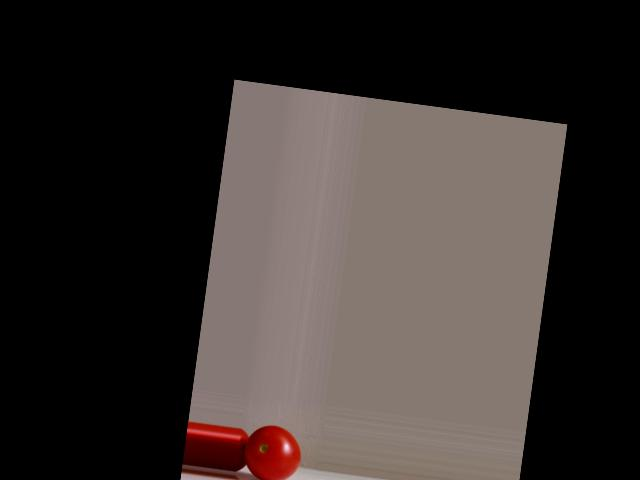tomato: (241, 422, 304, 480)
